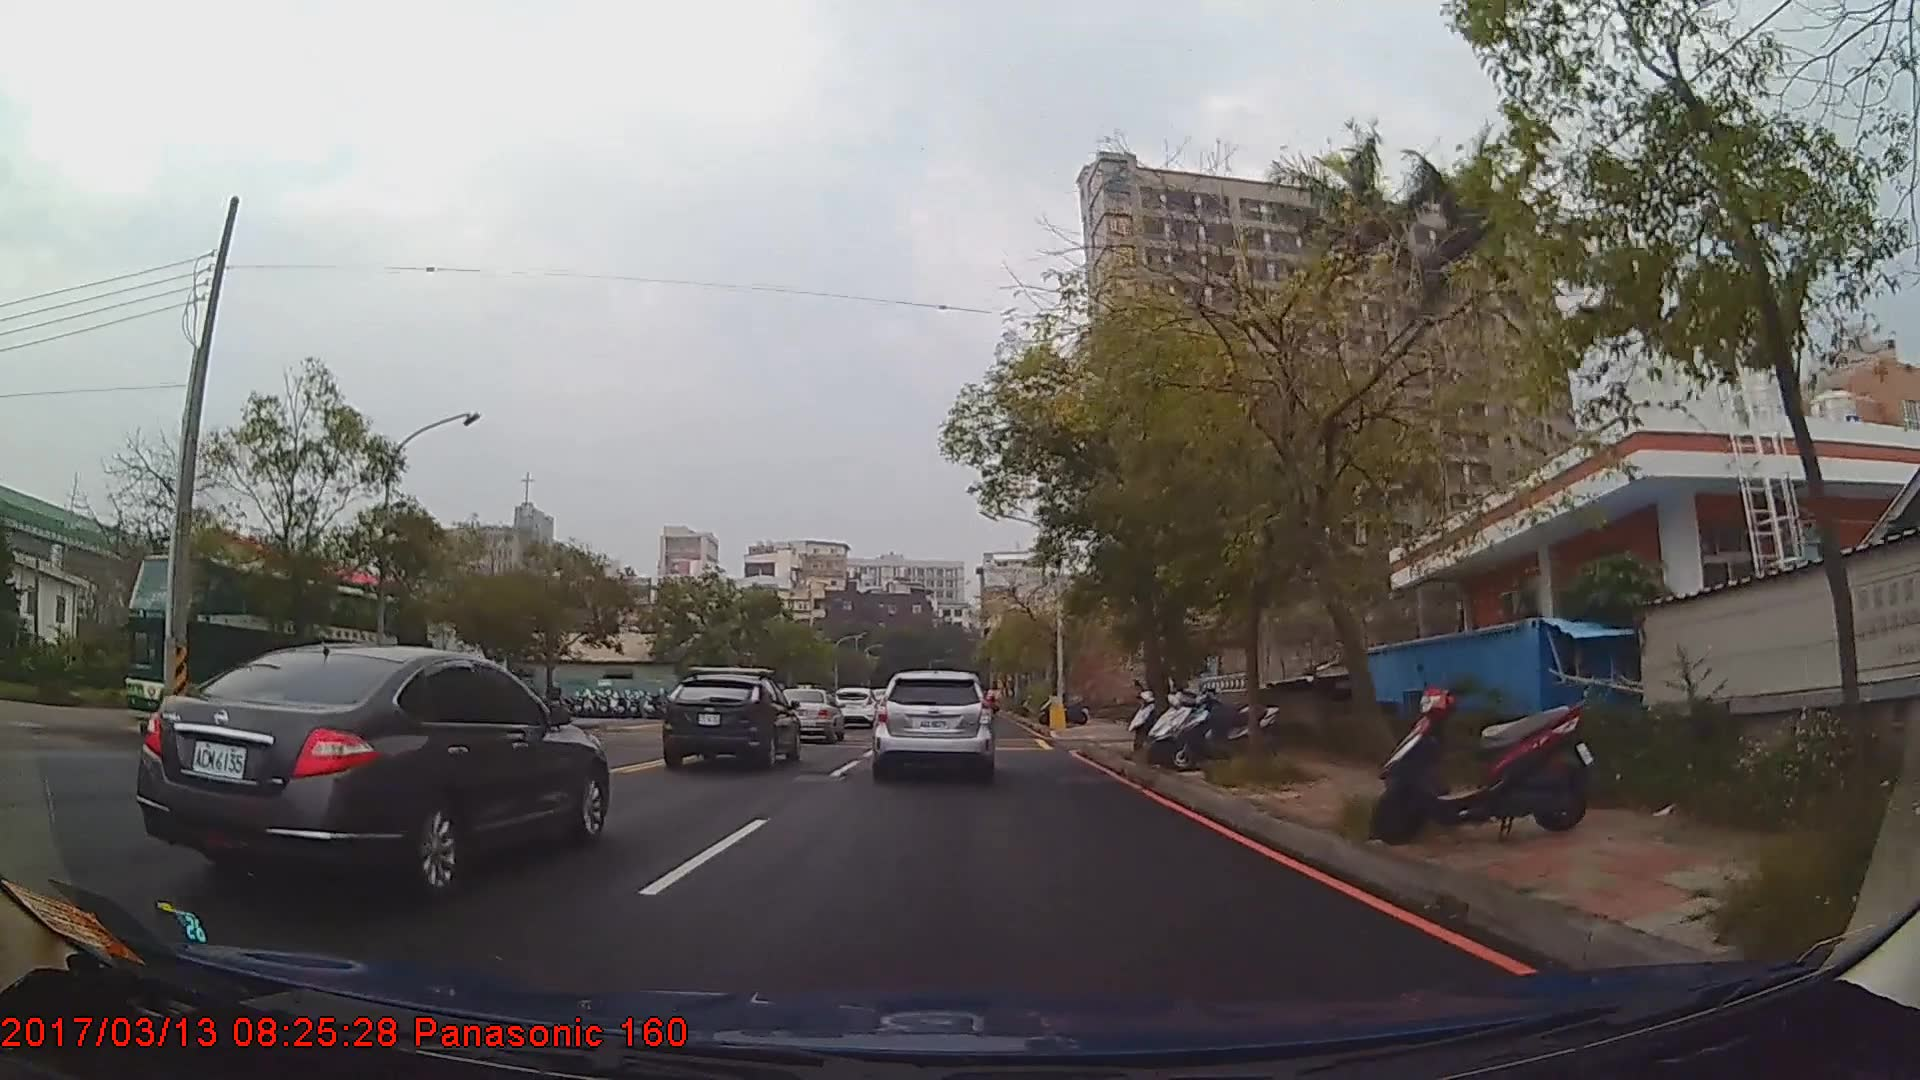vehicle: (135, 641, 609, 895), (115, 549, 431, 745), (659, 671, 802, 774), (873, 669, 992, 779), (774, 686, 843, 745), (831, 684, 878, 728)
